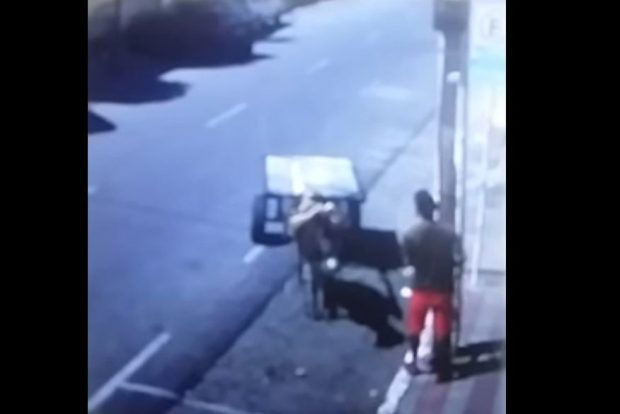Humano: (399, 190, 468, 372)
